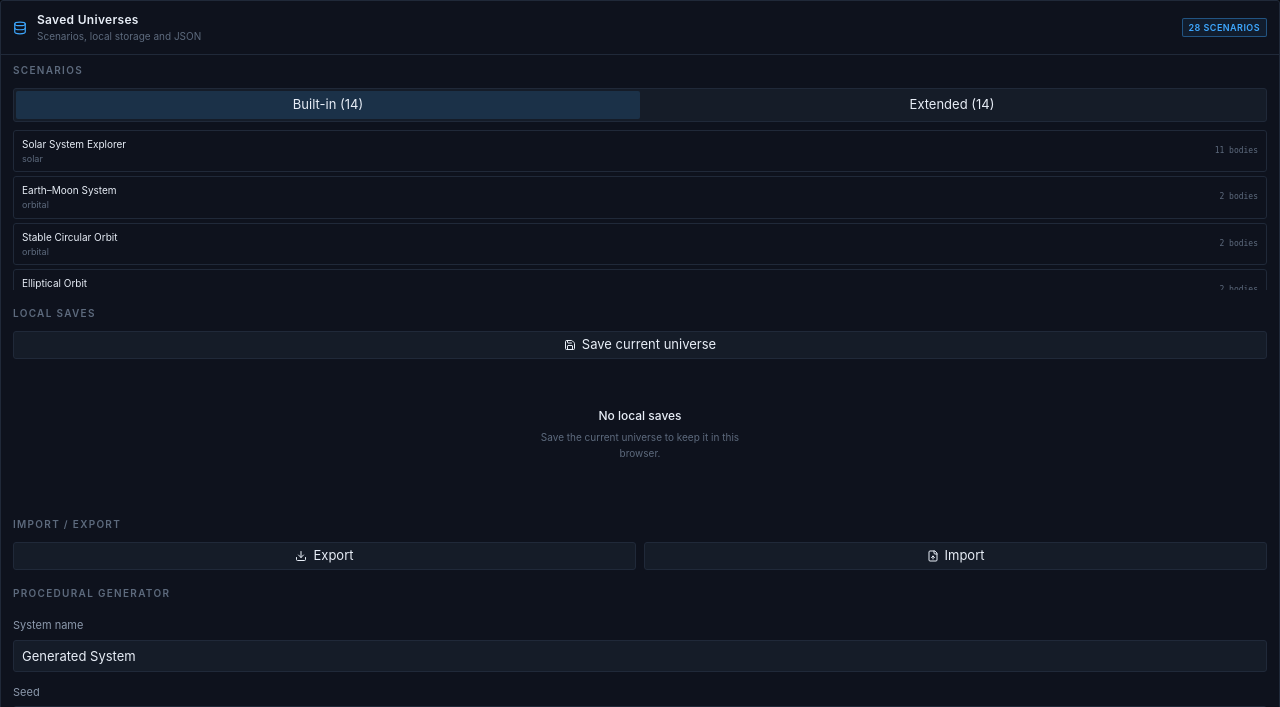
extended tool integration › exposes extended scenarios in the saved universes panel
The image size is (1280, 707).
Expected: the text "Solar System Explorer" is shown, [22,136,126,152]
Click the button "Extended (14)": {"x": 952, "y": 105} [640,91,1264,118]
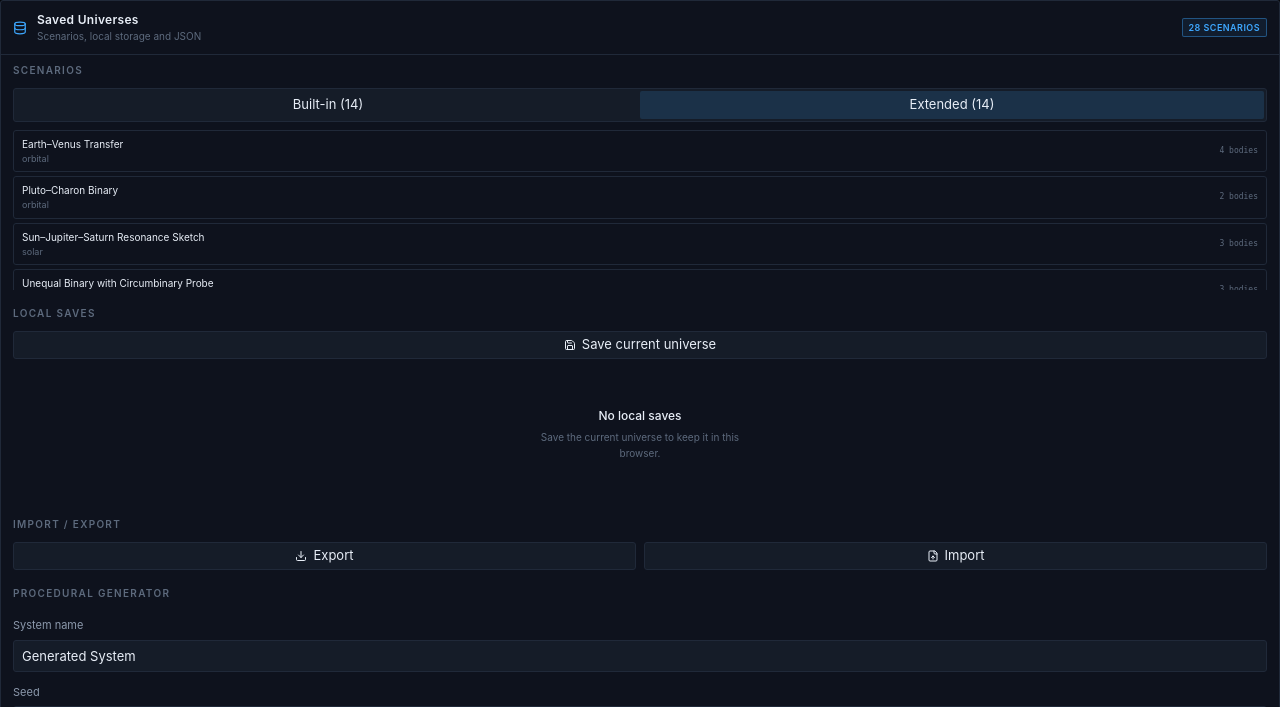
Expected: the text "Pluto–Charon Binary" is shown, [22,183,118,198]
